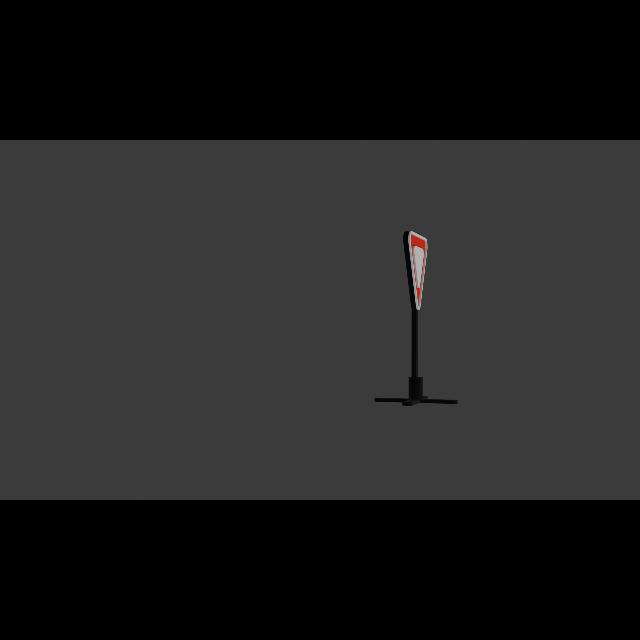sign_yield: (408, 232, 429, 311)
